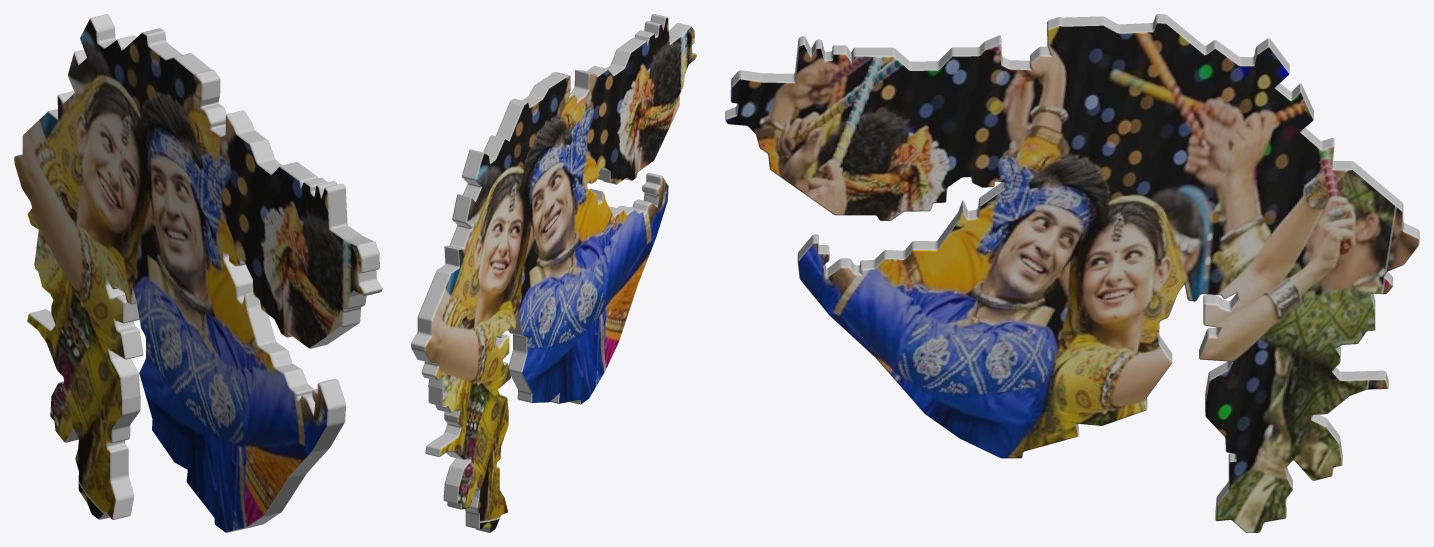
Rendered from Gujarat.glb.
The picture shows the model from 3 angles, left to right: view 1: azimuth 30°, elevation 25°; view 2: azimuth 150°, elevation 25°; view 3: azimuth 270°, elevation 25°; orthographic projection. The views are drawn at different scales.
Visible parts, largest first — view 1: Object_22; view 2: Object_22; view 3: Object_22.
Boxes of the visible parts, bbox=[...] form: Object_22: bbox=[14, 14, 382, 532]; Object_22: bbox=[411, 14, 696, 532]; Object_22: bbox=[725, 14, 1419, 532].
Size of the model in its own units: 0.0379 by 0.7542 by 0.9258.
1 material, 1 textured.
